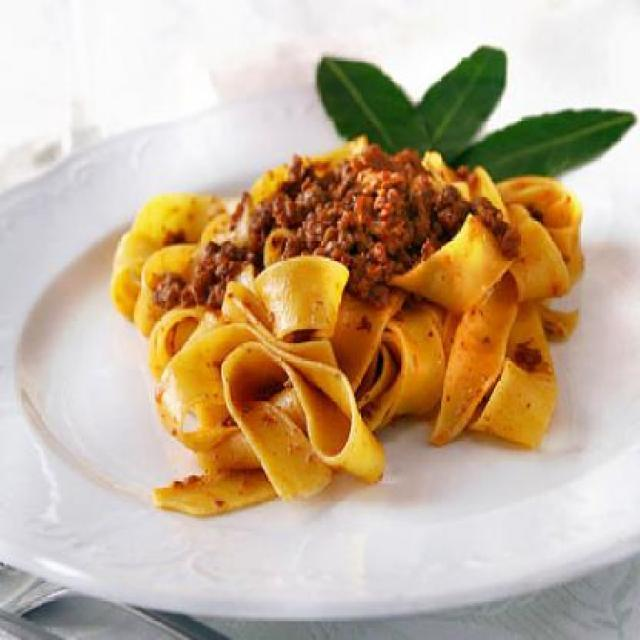Pasta al ragu: (101, 112, 604, 514)
